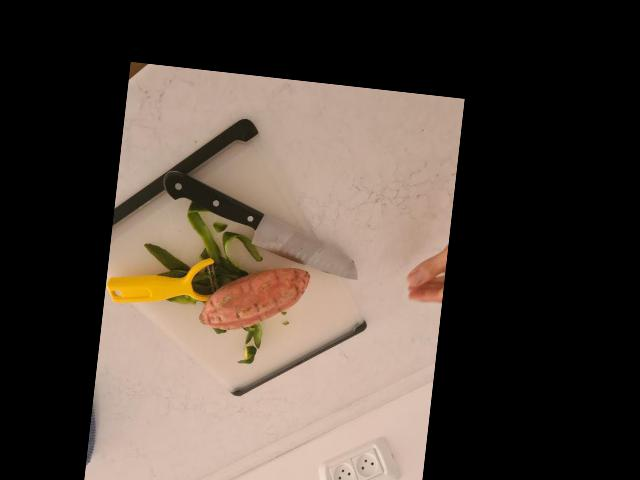sweet_potato: (194, 256, 309, 337)
